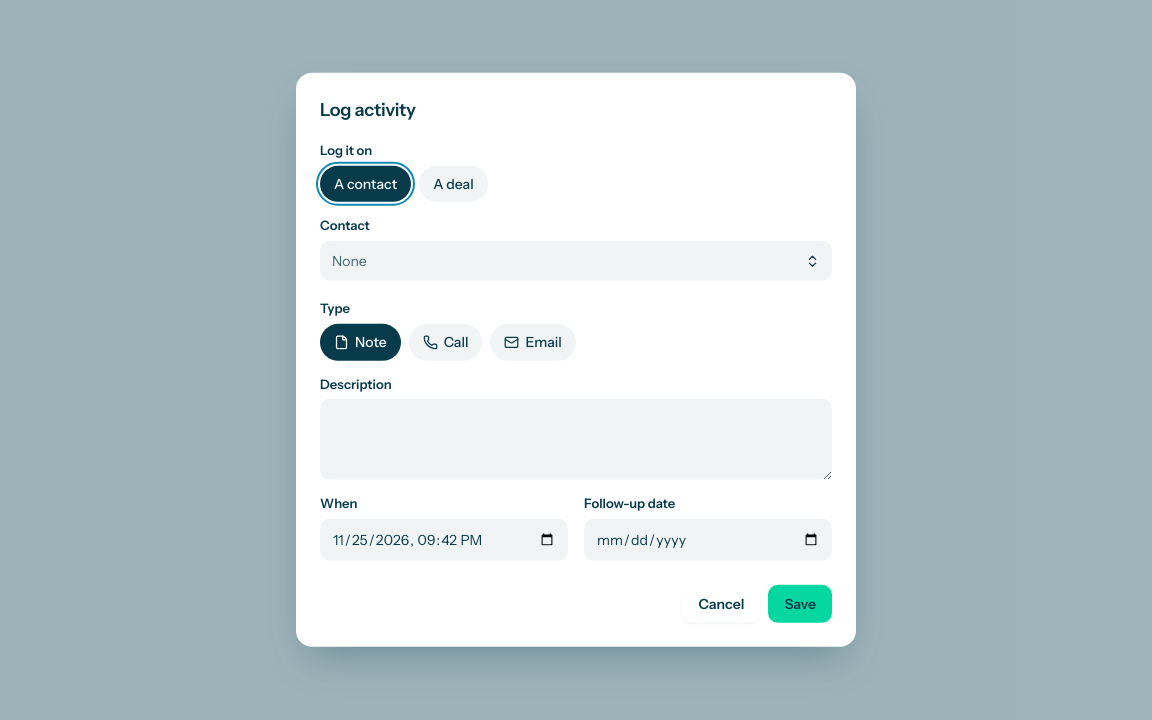
logging an activity from the dashboard › stays open and shows the server's reason when saving fails
Click the button named "Contact".
click(349, 261)  # box [320, 241, 832, 281]
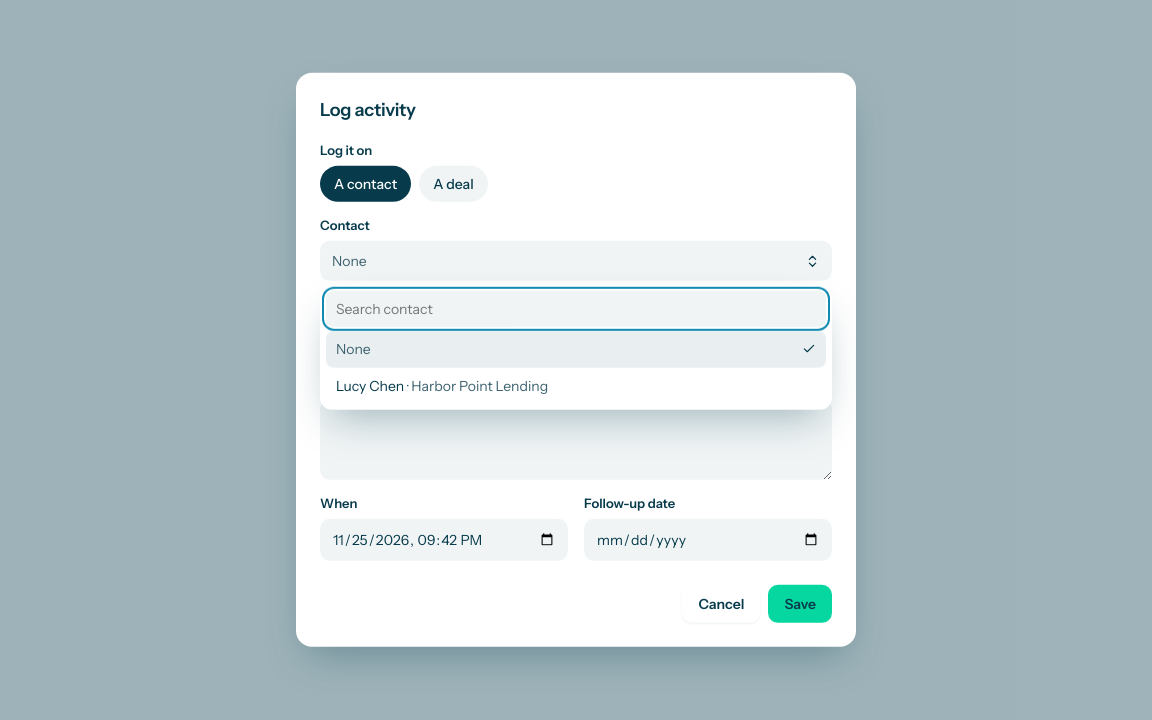
Click the option "Lucy Chen · Harbor Point Lending".
click(442, 385)  # box [336, 376, 548, 394]
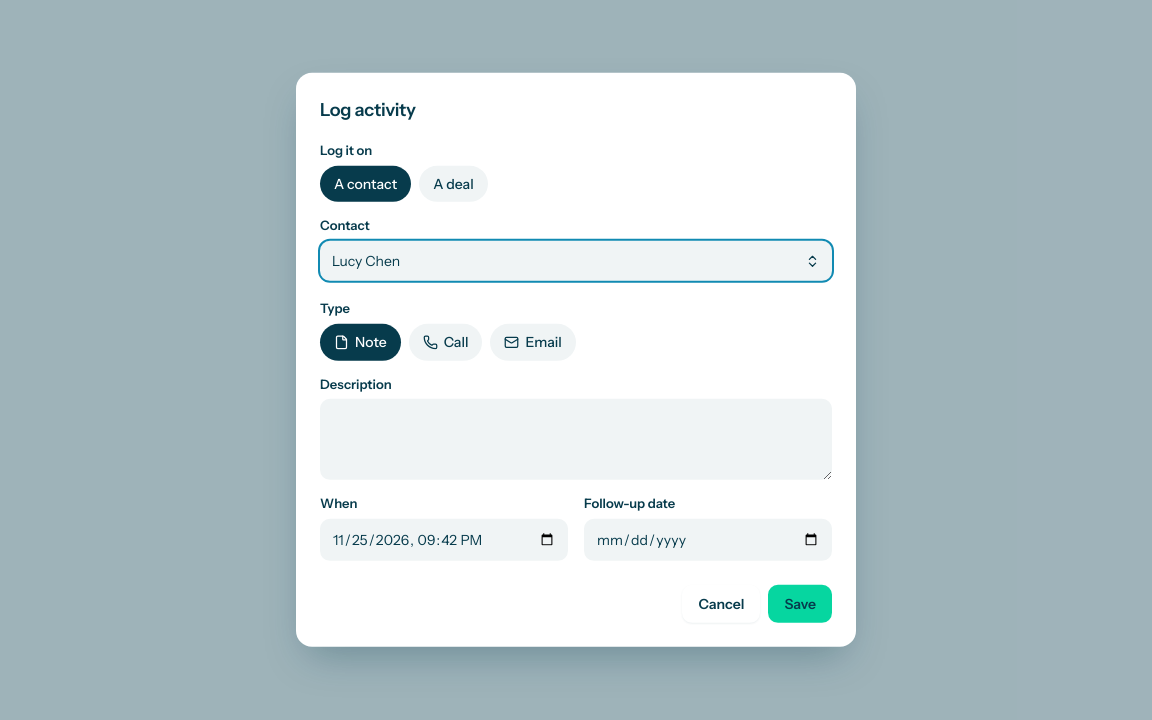
Type "Coffee meeting" into the text box labelled "Description".
click(576, 440); type("Coffee meeting")  # box [320, 399, 832, 480]
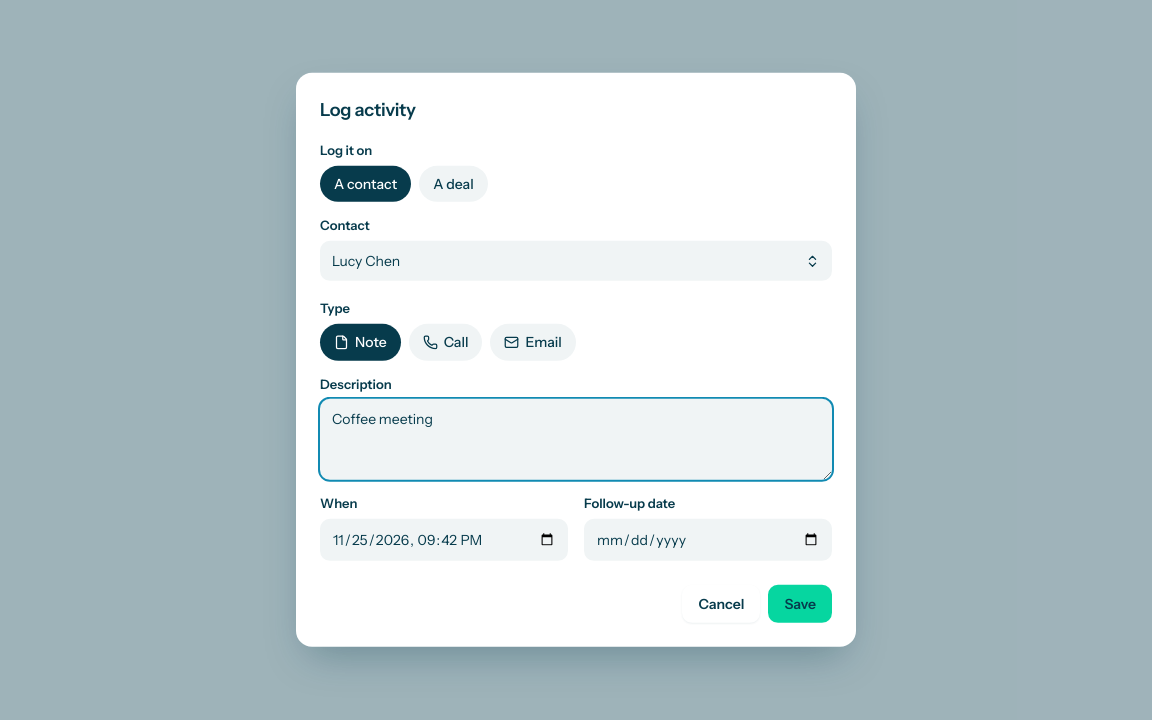
Click the button "Save".
click(800, 604)  # box [768, 585, 832, 623]
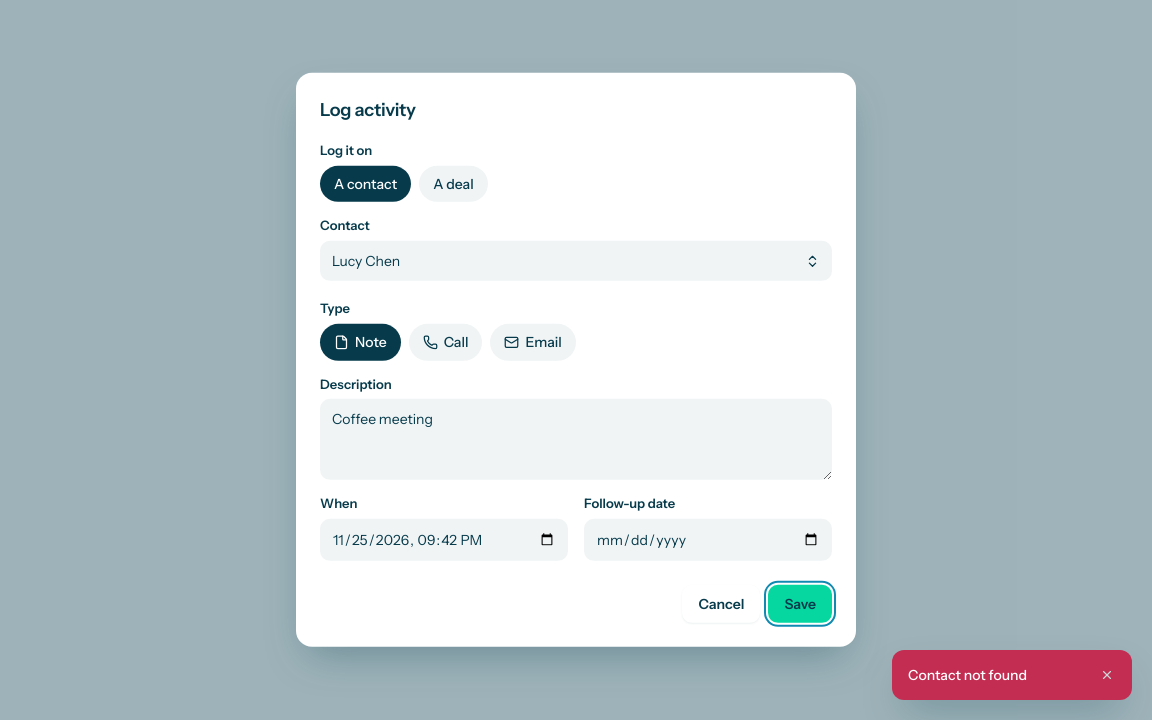
Result: the text "Contact not found" is shown at [908, 666, 1027, 684]
